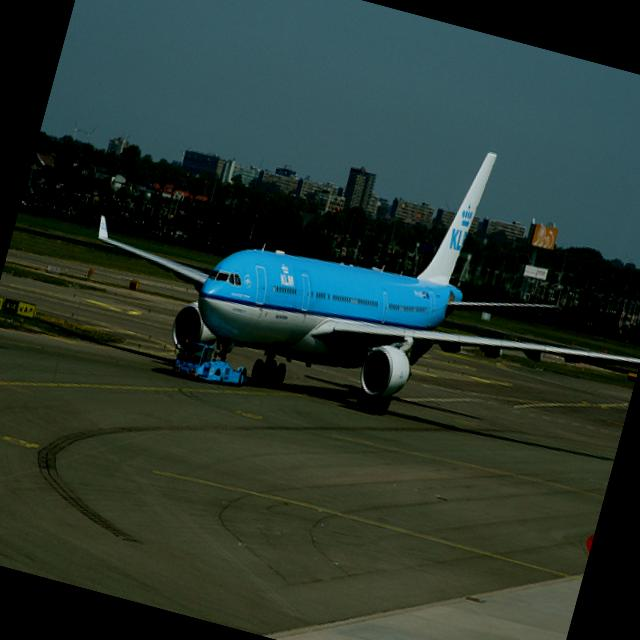Vehicle: (172, 338, 252, 392)
